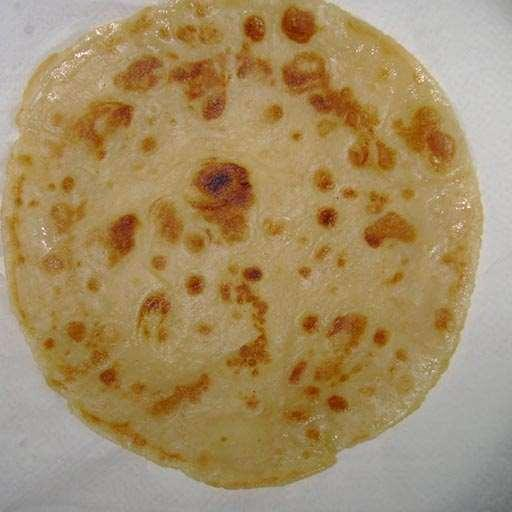chapati: (4, 0, 482, 488)
